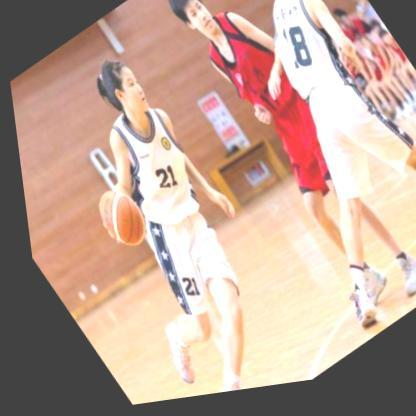basketball: (82, 182, 149, 259)
